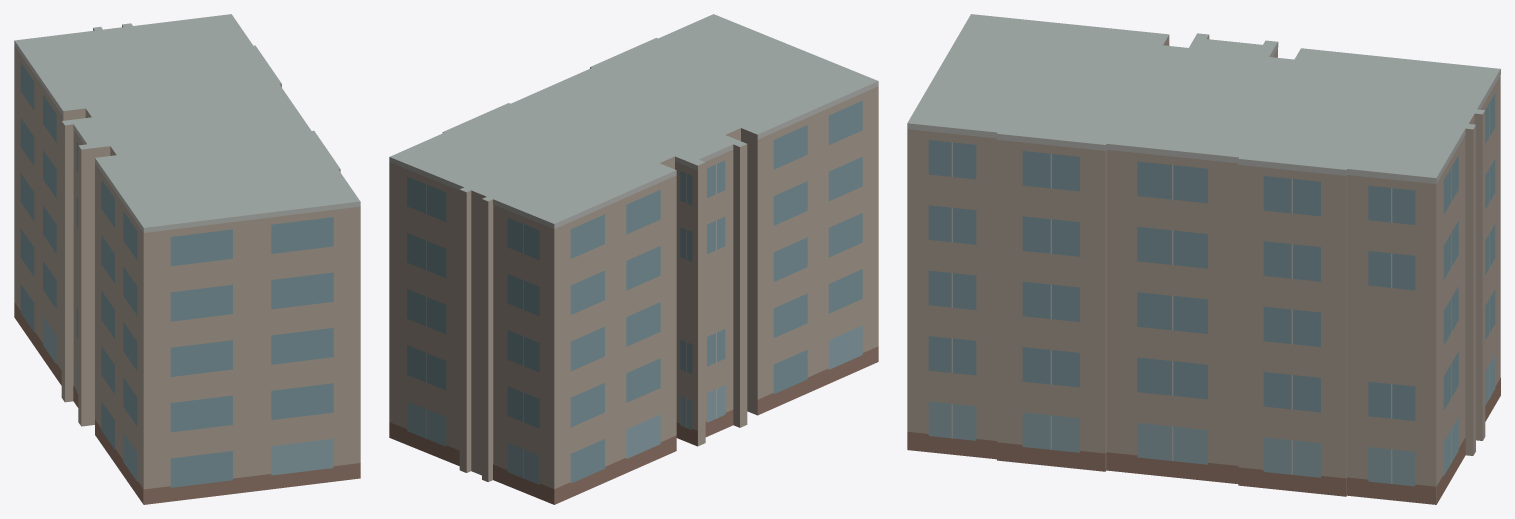
The model's file is survey-upis-32870219.glb.
3 renders of one model, left to right at view 1: azimuth 30°, elevation 25°; view 2: azimuth 150°, elevation 25°; view 3: azimuth 270°, elevation 25°, orthographic. The views are drawn at different scales.
Visible parts, largest first — view 1: survey-upis-32870219.tmp; view 2: survey-upis-32870219.tmp; view 3: survey-upis-32870219.tmp.
Boxes of the visible parts, left/top/right/bottom form: survey-upis-32870219.tmp: left=14, top=14, right=360, bottom=504; survey-upis-32870219.tmp: left=389, top=14, right=878, bottom=504; survey-upis-32870219.tmp: left=907, top=14, right=1500, bottom=504.
Bounding box in the file's own units: 14.45 × 13.4 × 22.07.
